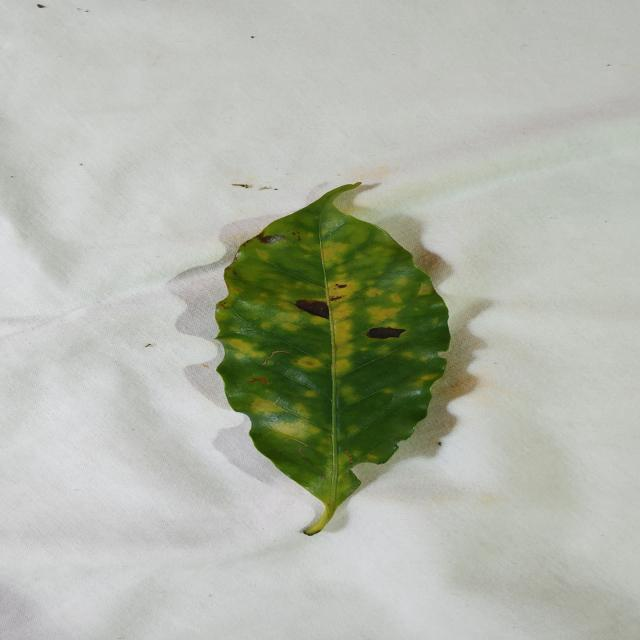Enfermedad-Roya: (214, 184, 452, 538)
